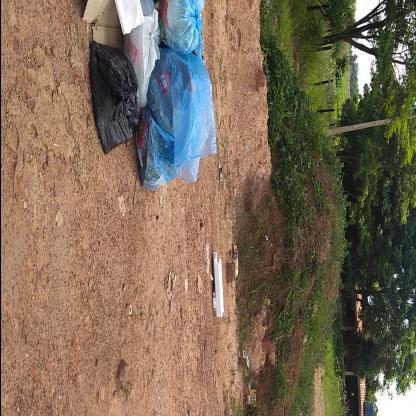lixo: (90, 1, 211, 167)
